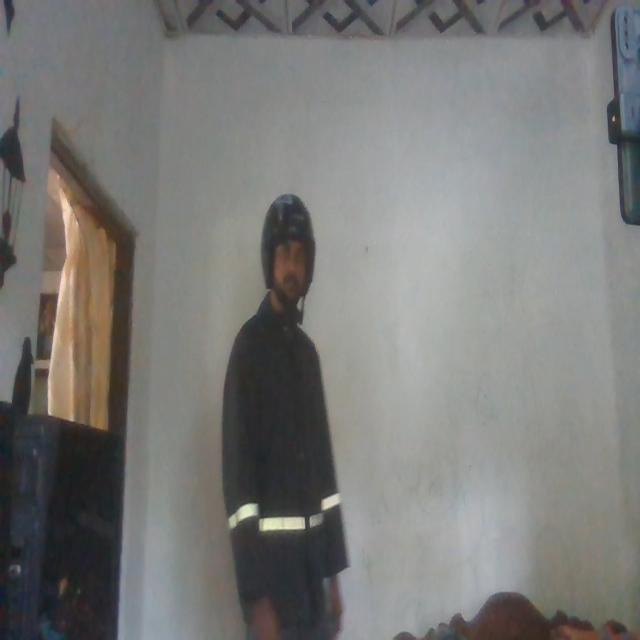Helmet_Wearer: (251, 183, 317, 336)
Jacket_Wearer: (212, 305, 346, 595)
Person: (215, 189, 359, 640)
